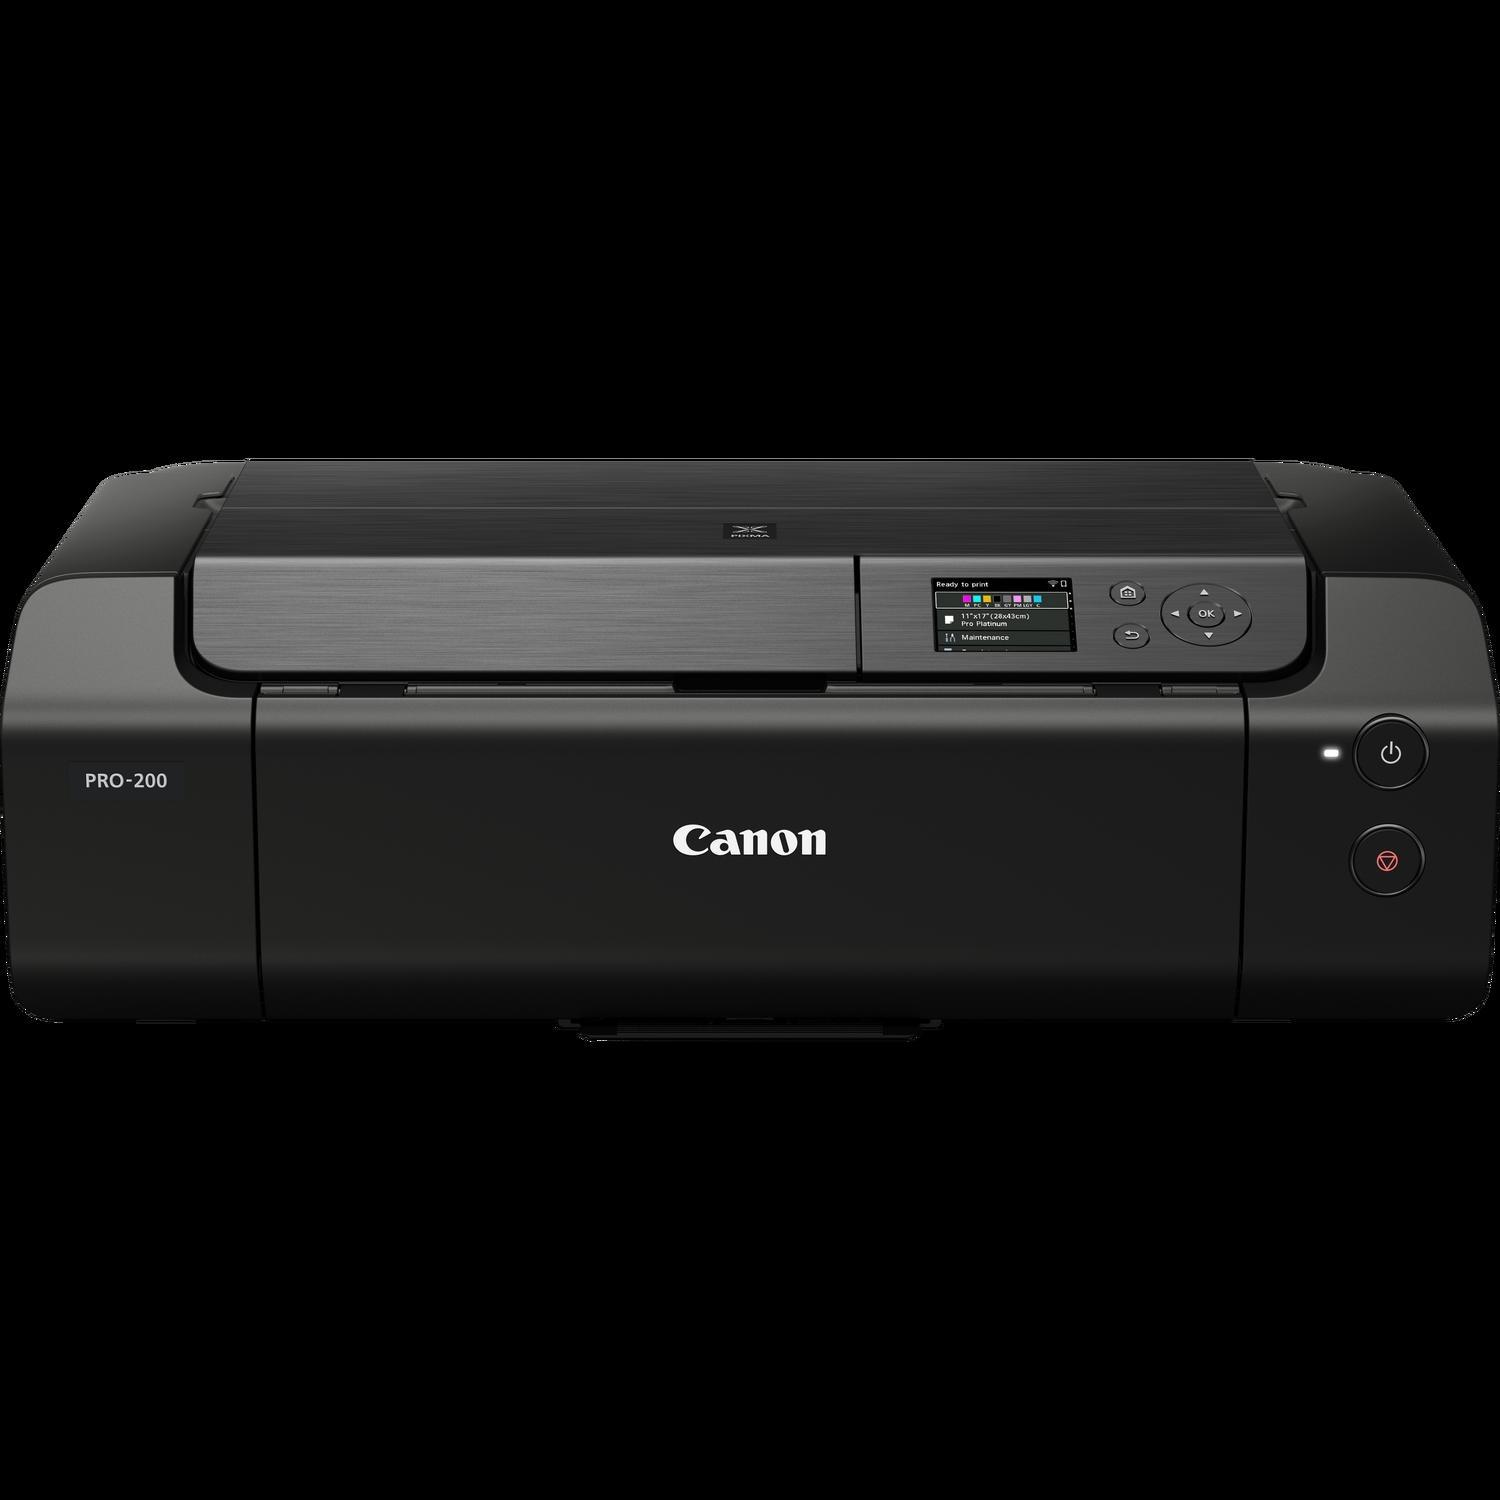Printer: (0, 453, 1499, 1036)
